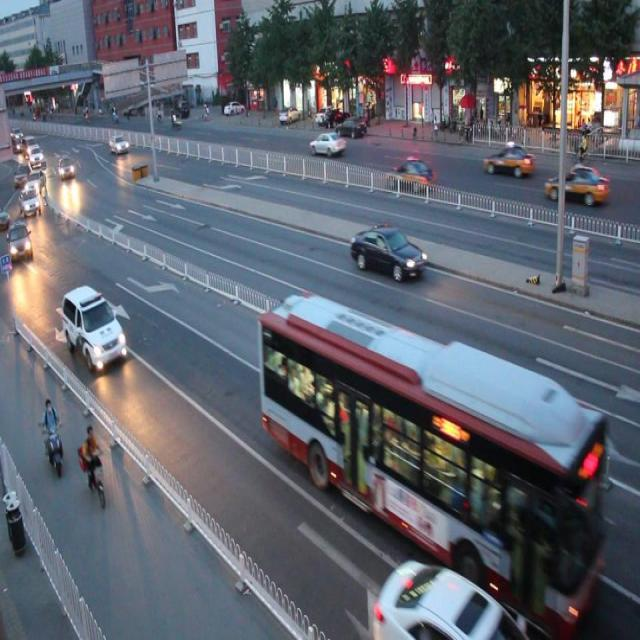car: (373, 557, 538, 640), (62, 286, 126, 372), (351, 222, 424, 282), (544, 162, 605, 208), (484, 140, 532, 180), (387, 160, 433, 192), (307, 129, 346, 158)
van: (257, 288, 604, 628)
